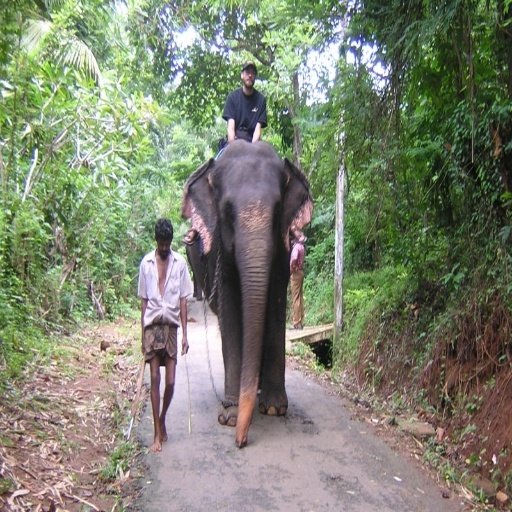hand: (138, 338, 145, 356), (181, 336, 188, 354)
